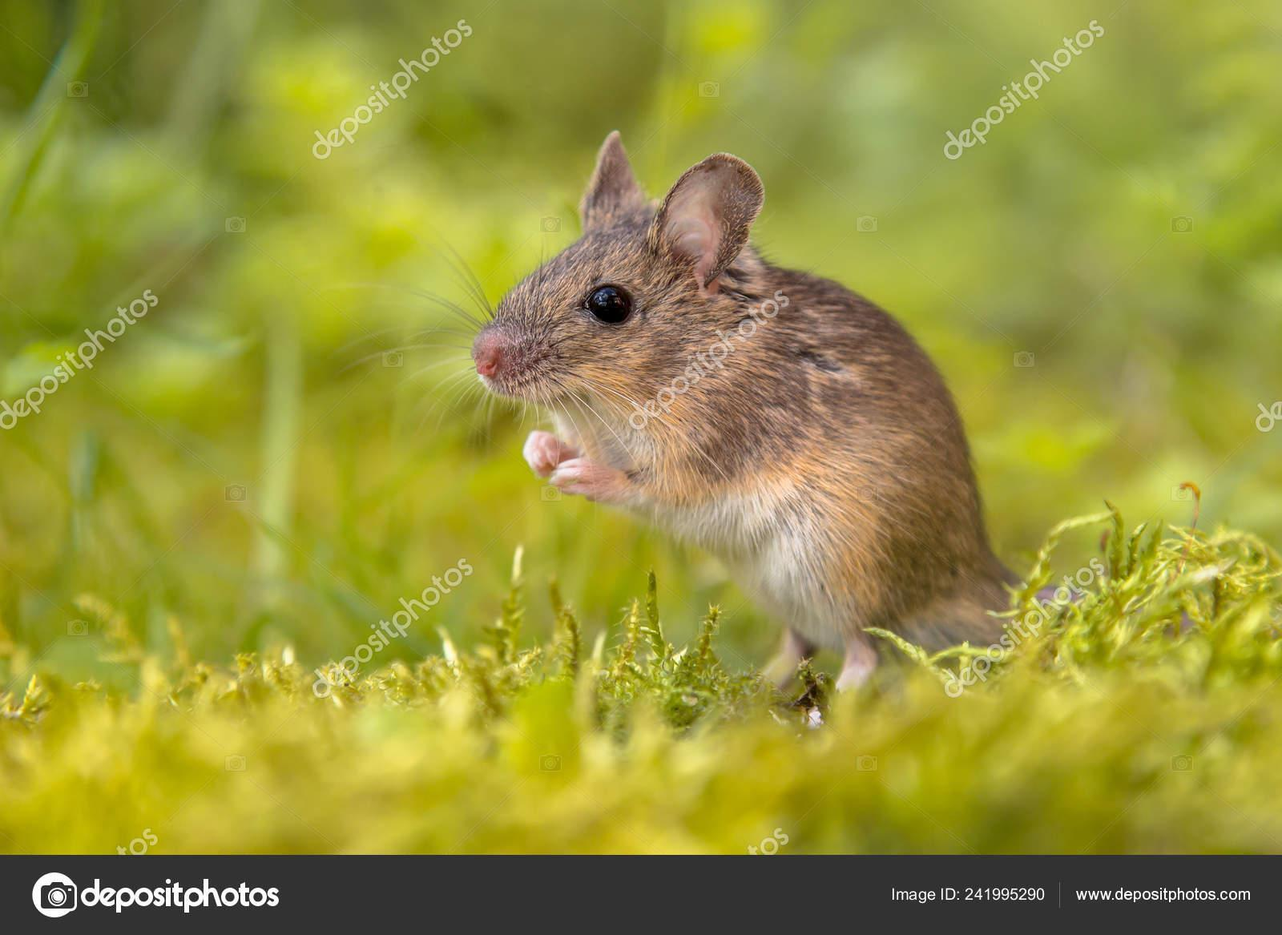rat: (474, 128, 1064, 695)
